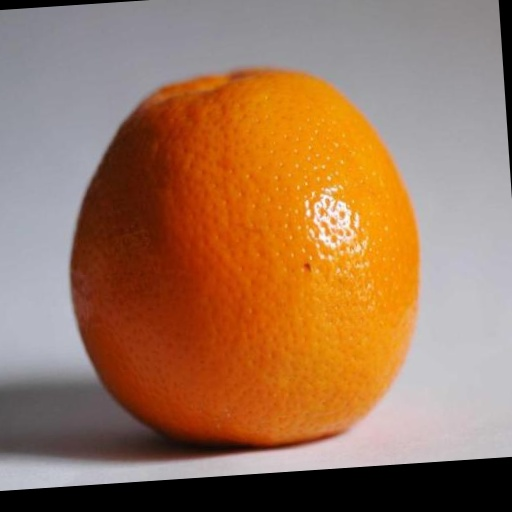fruit: (71, 70, 418, 445)
